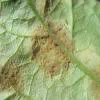Tomato mold leaf: (1, 2, 99, 99)
